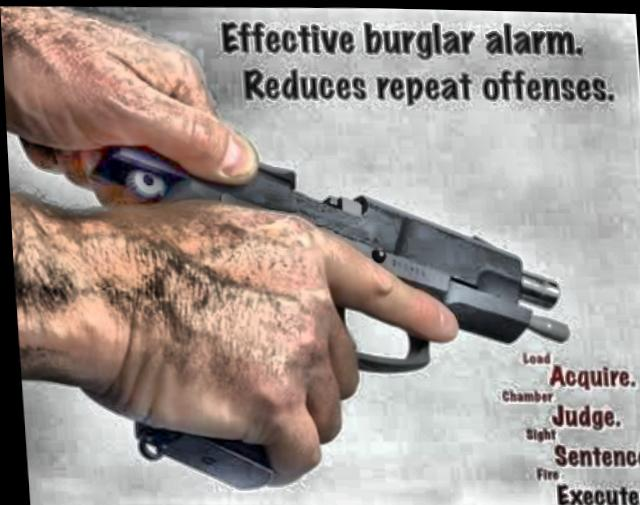pistol: (82, 111, 572, 492)
